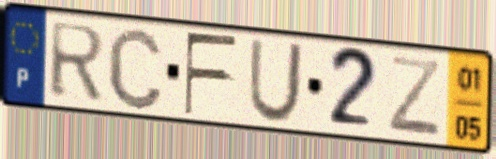2: (324, 44, 382, 139)
C: (105, 24, 166, 113)
F: (182, 30, 241, 118)
R: (47, 20, 109, 103)
U: (246, 37, 306, 126)
Z: (386, 53, 443, 140)
